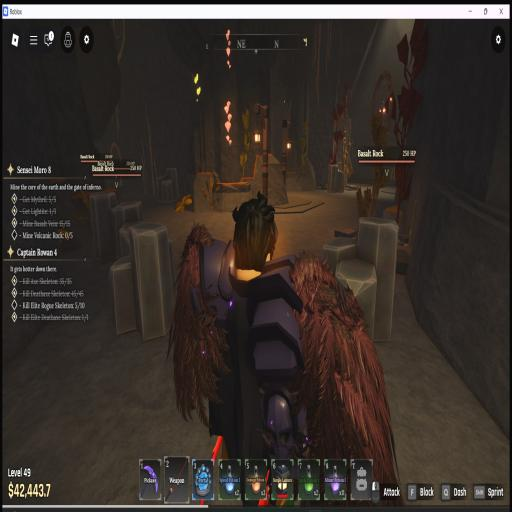player: (169, 192, 395, 481)
rock: (322, 219, 398, 341), (109, 221, 175, 339), (89, 192, 142, 259), (157, 168, 179, 202), (327, 164, 345, 192), (161, 180, 174, 202)
